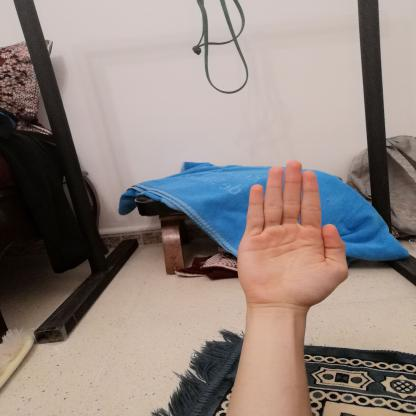SEEN: (226, 152, 356, 313)
